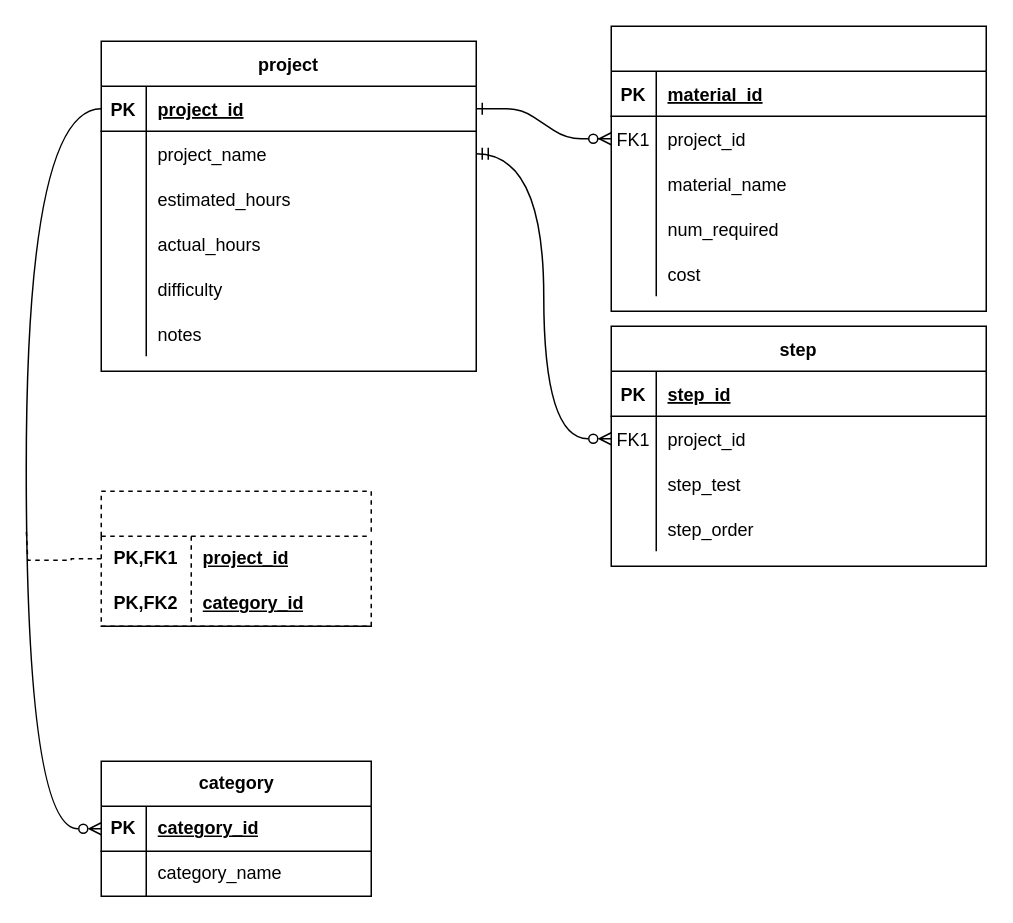
The diagram is 1013 pixels wide and 923 high, and some of its shapes have lost their labels. The shapes that lost their labels are listed below. From the top down, each one's box as (x1, y1, x2, y2) in pixels, then its label:
(610, 25, 986, 311): Orders
(100, 490, 371, 626): project_category
